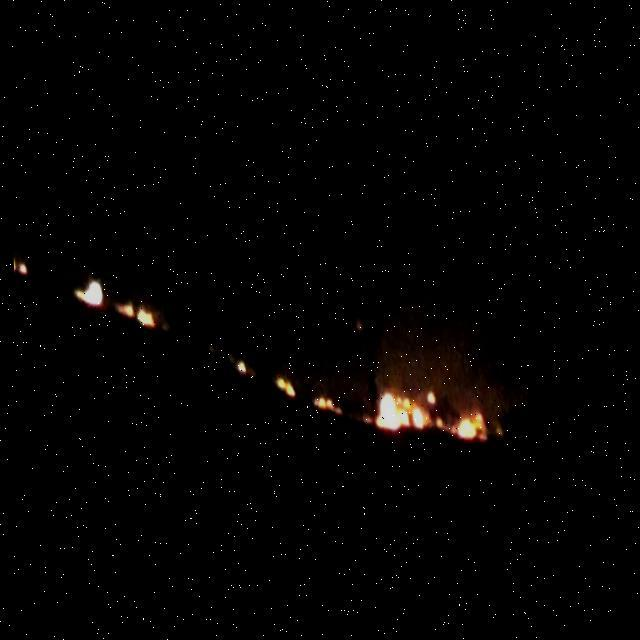Fire: (358, 366, 484, 432), (70, 276, 154, 324), (271, 363, 291, 389), (310, 383, 334, 402), (234, 348, 244, 367)
